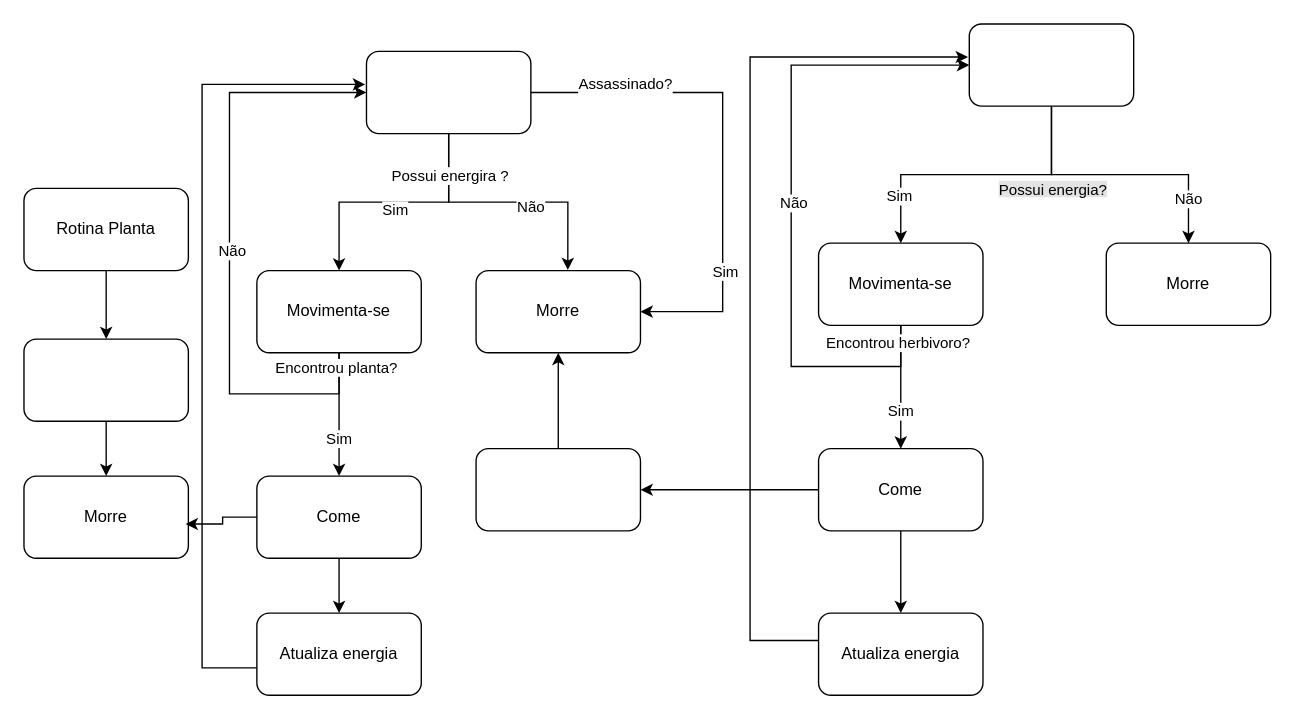
The diagram is 1295 pixels wide and 719 high, and some of its shapes have lost their labels. Each missing label, with the box of its shape:
Assassina Herbívovo: (475, 447, 640, 531)
Inicia: (23, 338, 188, 421)
Rotina Carnívoro: (968, 23, 1134, 106)
Rotina Herbivoro: (365, 50, 531, 134)
